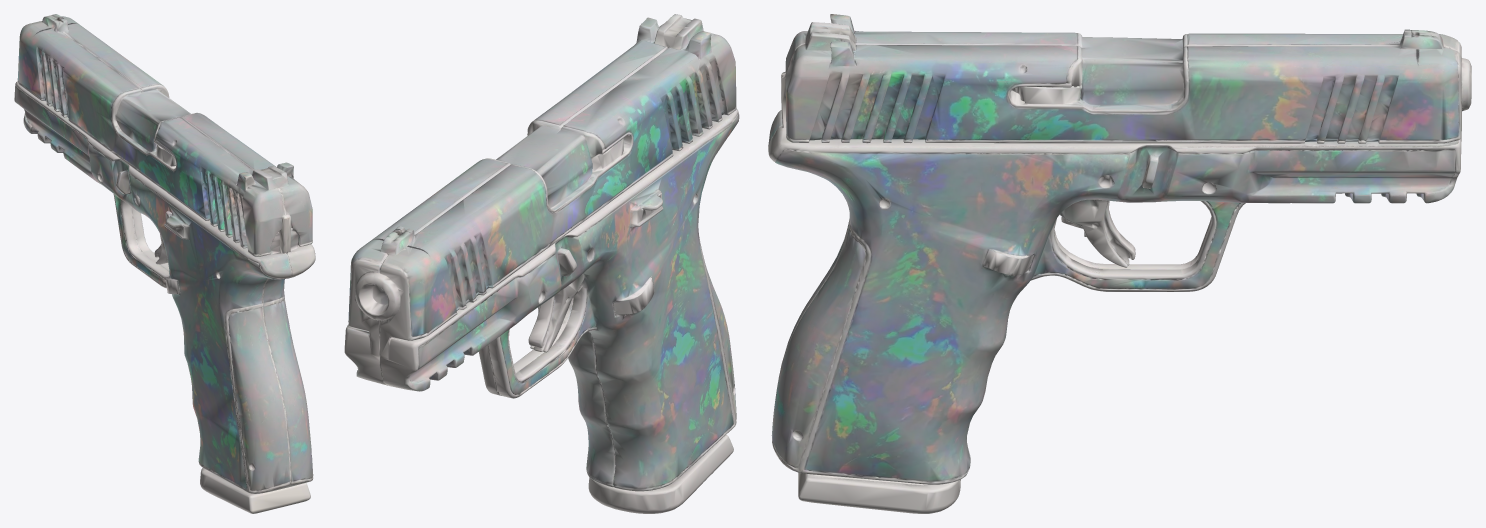
Rendered from sar9_opal.glb.
3 views of the same model, side by side, from view 1: azimuth 30°, elevation 25°; view 2: azimuth 150°, elevation 25°; view 3: azimuth 270°, elevation 25° (orthographic). The views are drawn at different scales.
Parts seen in each view (by area): view 1: govde; view 2: govde; view 3: govde.
Boxes of the visible parts, x1,y1,x2,y2 form: govde: [14, 14, 315, 513]; govde: [344, 14, 739, 513]; govde: [768, 14, 1471, 513].
Bounding box in the file's own units: 0.0348 × 0.1394 × 0.1899.
Materials: 1 (1 with a texture image).
